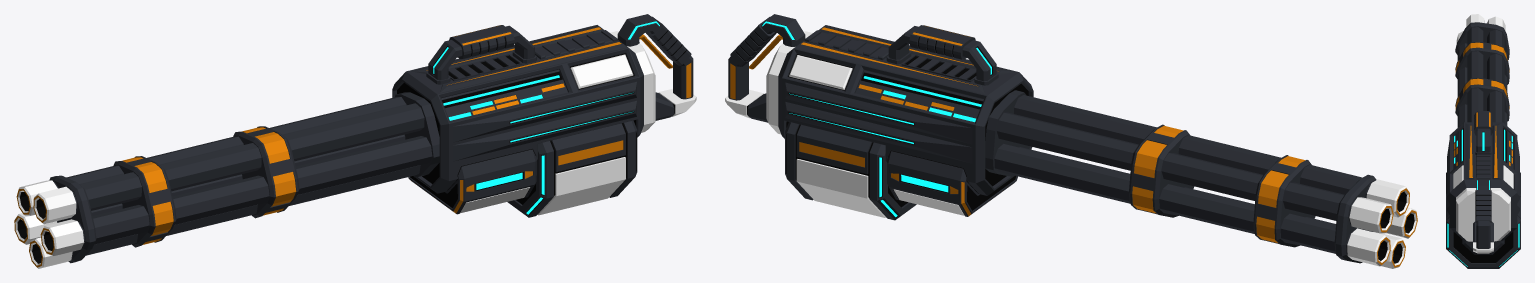
File: SM_Minigun.fbx
3 views of the same model, side by side, from view 1: azimuth 30°, elevation 25°; view 2: azimuth 150°, elevation 25°; view 3: azimuth 270°, elevation 25° (orthographic). The views are drawn at different scales.
Visible parts, largest first — view 1: SM_Minigun_Barrel, SM_Minigun, SM_Minigun_Ammo_Box; view 2: SM_Minigun_Barrel, SM_Minigun, SM_Minigun_Ammo_Box; view 3: SM_Minigun, SM_Minigun_Barrel, SM_Minigun_Ammo_Box.
Part boxes in pixels (x1,y1,x2,y2): SM_Minigun_Barrel: [14, 92, 439, 268]; SM_Minigun: [392, 14, 696, 214]; SM_Minigun_Ammo_Box: [507, 120, 637, 217]; SM_Minigun_Barrel: [985, 90, 1417, 268]; SM_Minigun: [725, 14, 1033, 216]; SM_Minigun_Ammo_Box: [785, 122, 916, 220]; SM_Minigun: [1446, 111, 1520, 253]; SM_Minigun_Barrel: [1455, 14, 1509, 127]; SM_Minigun_Ammo_Box: [1446, 194, 1520, 268].
Bounding box in the file's own units: 114 × 30.34 × 18.23.
